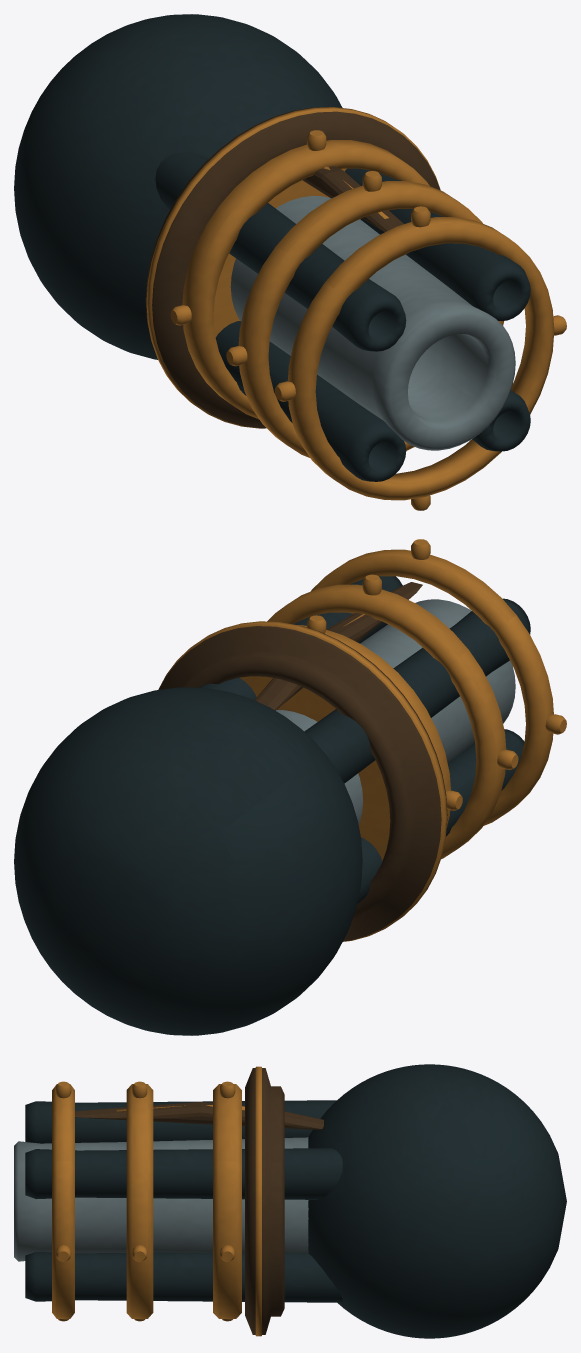
The model's file is EldritchCannonBarrel.obj.
3 renders of one model, top to bottom at view 1: azimuth 30°, elevation 25°; view 2: azimuth 150°, elevation 25°; view 3: azimuth 270°, elevation 25°, orthographic. The views are drawn at different scales.
Parts seen in each view (by area): view 1: EldritchCannonBarrel; view 2: EldritchCannonBarrel; view 3: EldritchCannonBarrel.
Part boxes in pixels (bbox=[...]): EldritchCannonBarrel: bbox=[14, 14, 566, 510]; EldritchCannonBarrel: bbox=[14, 539, 566, 1035]; EldritchCannonBarrel: bbox=[14, 1064, 566, 1338].
Bounding box in the file's own units: 0.36 × 0.36 × 0.725.
5 materials, 5 textured.
